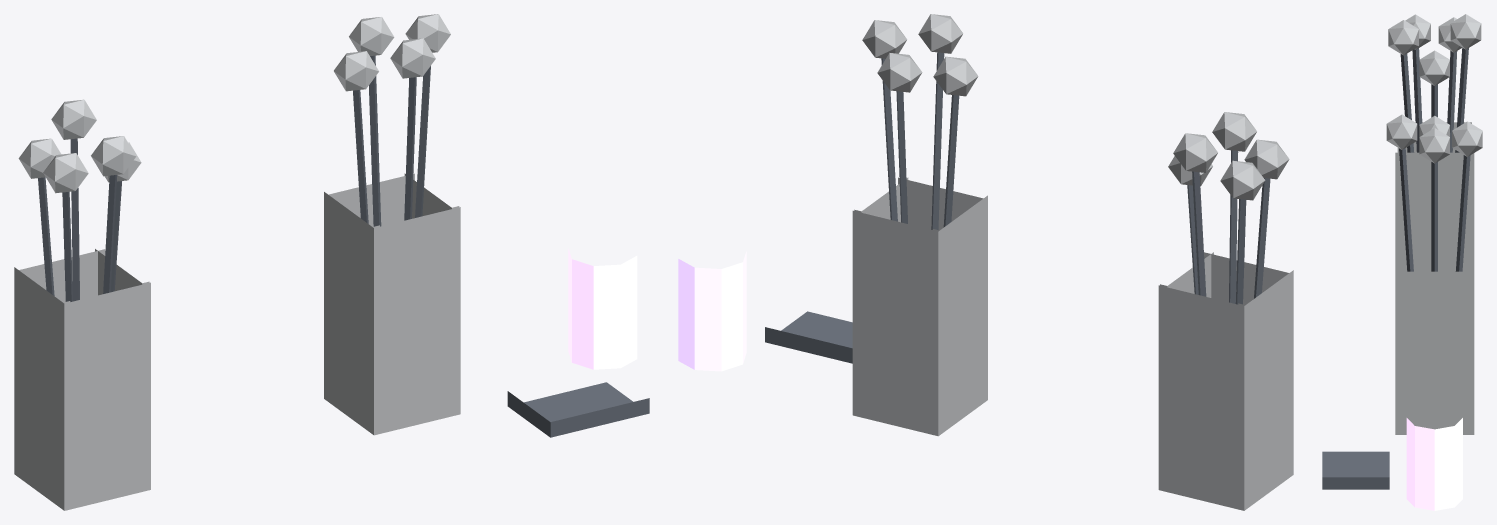
Rendered from ext_offering_set_01.glb.
The picture shows the model from 3 angles, left to right: view 1: azimuth 30°, elevation 25°; view 2: azimuth 150°, elevation 25°; view 3: azimuth 270°, elevation 25°; orthographic projection. The views are drawn at different scales.
Parts seen in each view (by area): view 1: Vases, Dried_Petals, Stems, Candle, Folded_Note; view 2: Vases, Dried_Petals, Stems, Candle, Folded_Note; view 3: Vases, Dried_Petals, Stems, Candle, Folded_Note.
Boxes of the visible parts, left/top/right/bottom form: Vases: left=14, top=173, right=460, bottom=510; Dried_Petals: left=18, top=14, right=450, bottom=193; Stems: left=38, top=55, right=430, bottom=301; Candle: left=568, top=248, right=637, bottom=369; Folded_Note: left=507, top=382, right=649, bottom=437; Vases: left=852, top=177, right=1293, bottom=510; Dried_Petals: left=862, top=14, right=1289, bottom=200; Stems: left=881, top=52, right=1270, bottom=304; Candle: left=678, top=251, right=746, bottom=371; Folded_Note: left=765, top=311, right=852, bottom=363; Vases: left=1395, top=122, right=1474, bottom=434; Dried_Petals: left=1386, top=14, right=1482, bottom=163; Stems: left=1399, top=48, right=1470, bottom=271; Candle: left=1406, top=418, right=1462, bottom=510; Folded_Note: left=1322, top=451, right=1389, bottom=489.
Size of the model in its own units: 0.4821 by 0.2942 by 0.1427.
